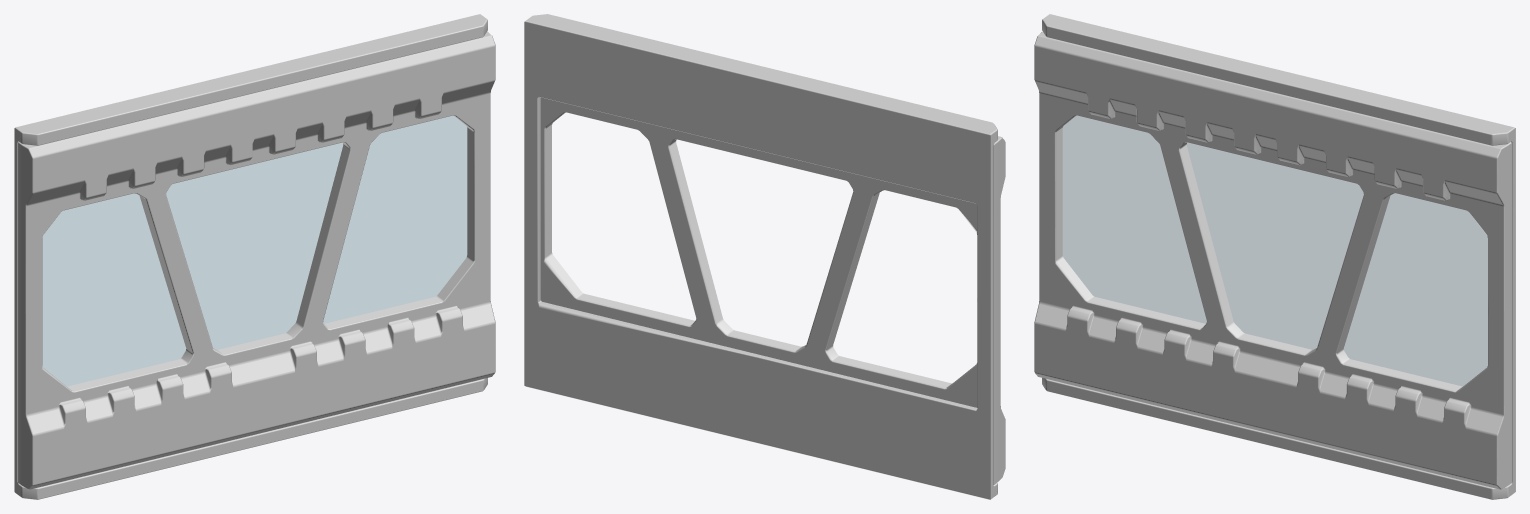
The model's file is WindowB4x3.glb.
3 views of the same model, side by side, from view 1: azimuth 30°, elevation 25°; view 2: azimuth 150°, elevation 25°; view 3: azimuth 330°, elevation 25° (orthographic).
Parts seen in each view (by area): view 1: WindowB4x3; view 2: WindowB4x3; view 3: WindowB4x3.
Boxes of the visible parts, box(x1,y1,x2,y2) form: WindowB4x3: box(14, 14, 495, 499); WindowB4x3: box(524, 14, 1005, 499); WindowB4x3: box(1034, 14, 1515, 499).
Size of what is drawn, in the model's own units: 4 by 3 by 0.252.
